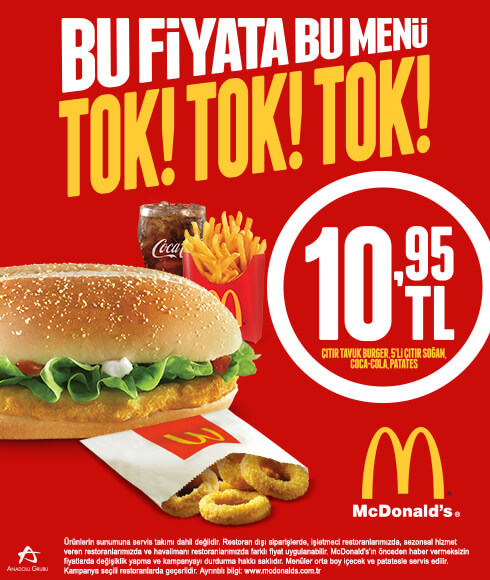mcdonalds: (359, 423, 454, 510)
